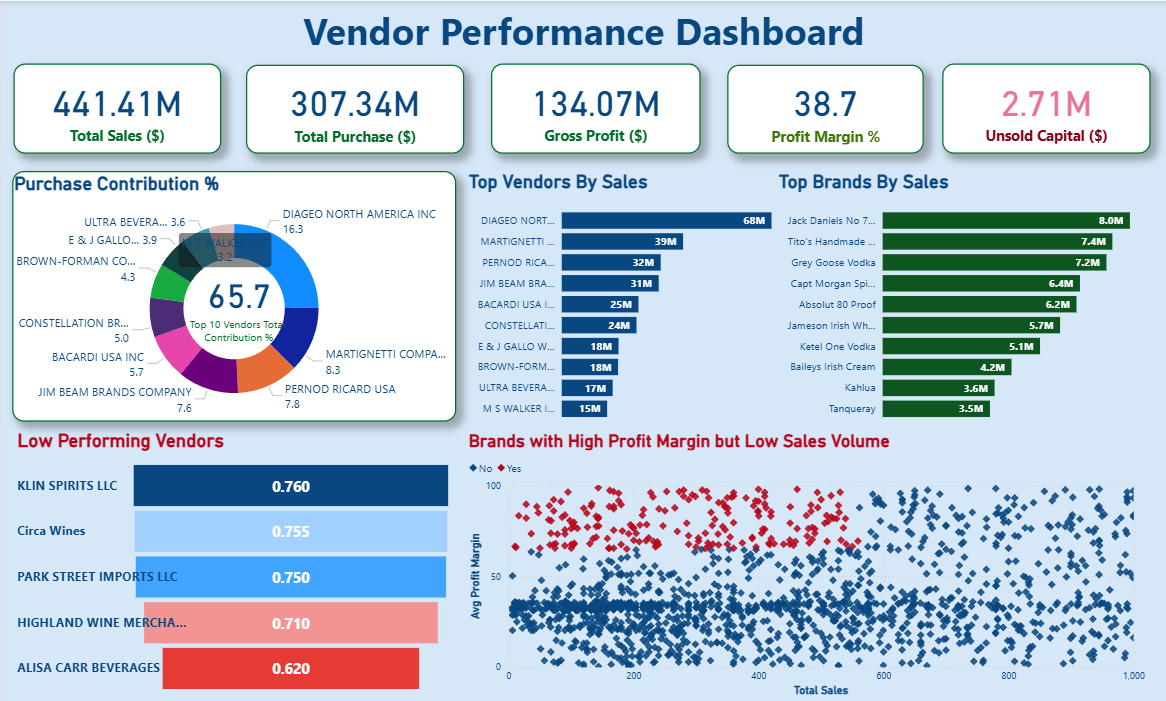

What the dashboard file says about the page in this screenshot:
{"tool":"powerbi","page":{"name":"Dashboard","canvas":[1500,900],"ordinal":0},"visuals":[{"type":"card","fields":{"Values":["Sum(vendor_sales_summary.total_purchase_dollars)"]},"box":[315.8,82.4,280.9,114.6],"z":0},{"type":"card","fields":{"Values":["Sum(vendor_sales_summary.total_sales_dollars)"]},"box":[16.8,81,266.9,116],"z":1000},{"type":"card","fields":{"Values":["Sum(vendor_sales_summary.gross_profit)"]},"box":[630.2,81,269.7,116],"z":2000},{"type":"card","fields":{"Values":["Avg(vendor_sales_summary.profit_margin)"]},"box":[934.8,82.4,252.9,114.6],"z":3000},{"type":"card","fields":{"Values":["Sum(vendor_sales_summary.UnsoldCapital)"]},"box":[1210.1,81,268.3,116],"z":4000},{"type":"textbox","box":[0,0,1500,83],"z":5000},{"type":"donutChart","title":"Purchase Contribution % ","fields":{"Category":["PurchaseContribution.vendor_name"],"Y":["Sum(PurchaseContribution.PurchaseContribution%)"]},"box":[14.5,219.4,571,322.6],"z":6000},{"type":"card","fields":{"Values":["Sum(PurchaseContribution.PurchaseContribution%)"]},"box":[211.8,266.7,188.2,233.3],"z":7000},{"type":"barChart","title":"Top Vendors By Sales","fields":{"Category":["vendor_sales_summary.vendor_name"],"Y":["Sum(vendor_sales_summary.total_sales_dollars)"]},"box":[597.3,219.2,447.9,332.9],"z":8000},{"type":"barChart","title":"Top Brands By Sales","fields":{"Category":["vendor_sales_summary.description"],"Y":["Sum(vendor_sales_summary.total_sales_dollars)"]},"box":[995.9,219.2,504.1,332.9],"z":9000},{"type":"funnel","title":"Low Performing Vendors","fields":{"Category":["LowTurnoverVendor.vendor_name"],"Y":["Avg(LowTurnoverVendor.AvgStockTurnOver)"]},"box":[16.1,551.6,569.4,348.4],"z":10000},{"type":"scatterChart","title":"Brands with High Profit Margin but Low Sales Volume","fields":{"X":["Sum(BrandPerformance.TotalSales)"],"Y":["Sum(BrandPerformance.AvgProfitMargin)"],"Series":["BrandPerformance.TargetBrand"],"Category":["BrandPerformance.Description"]},"box":[596.8,551.6,880.6,348.4],"z":11000}]}

Visuals, with their boxes in screenshot pixels (x1, y1, x2, y2), scaled from the page's 1500x900 canvas onto the 1166x701 screenshot:
card - Sum(vendor_sales_summary.total_purchase_dollars): <box>245,64,464,153</box>
card - Sum(vendor_sales_summary.total_sales_dollars): <box>13,63,221,153</box>
card - Sum(vendor_sales_summary.gross_profit): <box>490,63,700,153</box>
card - Avg(vendor_sales_summary.profit_margin): <box>727,64,923,153</box>
card - Sum(vendor_sales_summary.UnsoldCapital): <box>941,63,1149,153</box>
textbox: <box>0,0,1165,65</box>
"Purchase Contribution % " donutChart: <box>11,171,455,422</box>
card - Sum(PurchaseContribution.PurchaseContribution%): <box>165,208,311,389</box>
"Top Vendors By Sales" barChart: <box>464,171,812,430</box>
"Top Brands By Sales" barChart: <box>774,171,1165,430</box>
"Low Performing Vendors" funnel: <box>13,430,455,700</box>
"Brands with High Profit Margin but Low Sales Volume" scatterChart: <box>464,430,1148,700</box>
